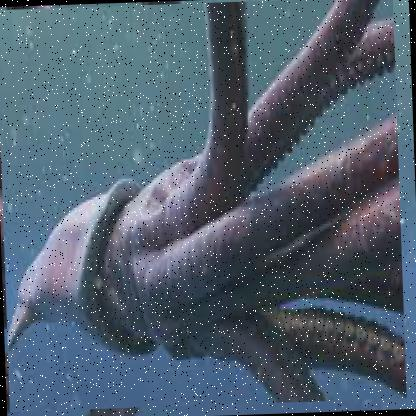colossal_squid: (0, 0, 407, 414)
